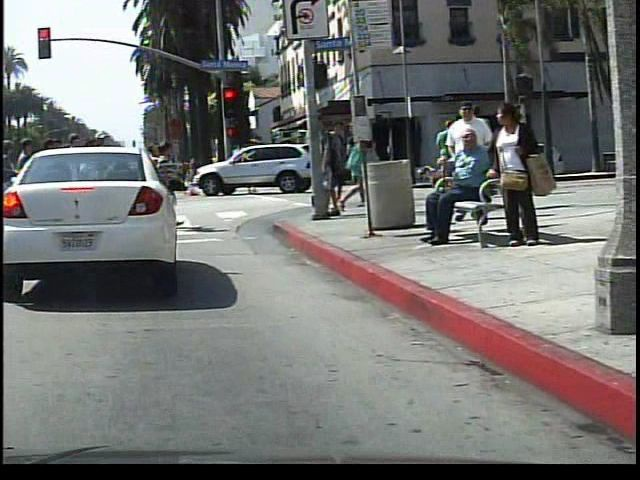person: (413, 129, 496, 254), (480, 100, 547, 252), (328, 114, 376, 214), (230, 146, 256, 197)
